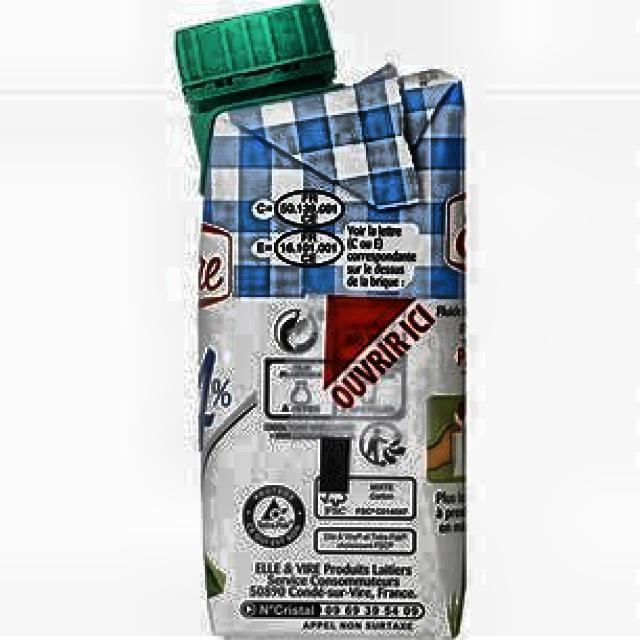cardboard: (174, 0, 466, 638)
